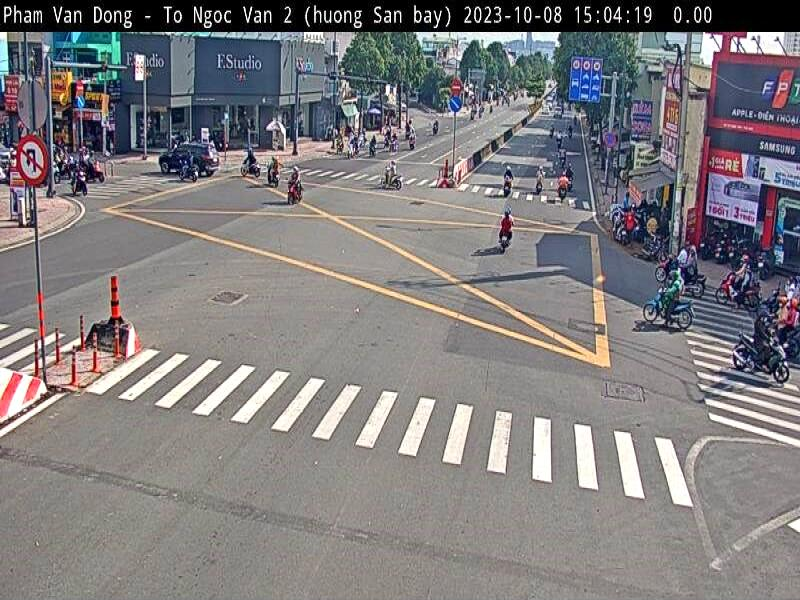motorcycle: (732, 328, 791, 383), (643, 286, 696, 328)
